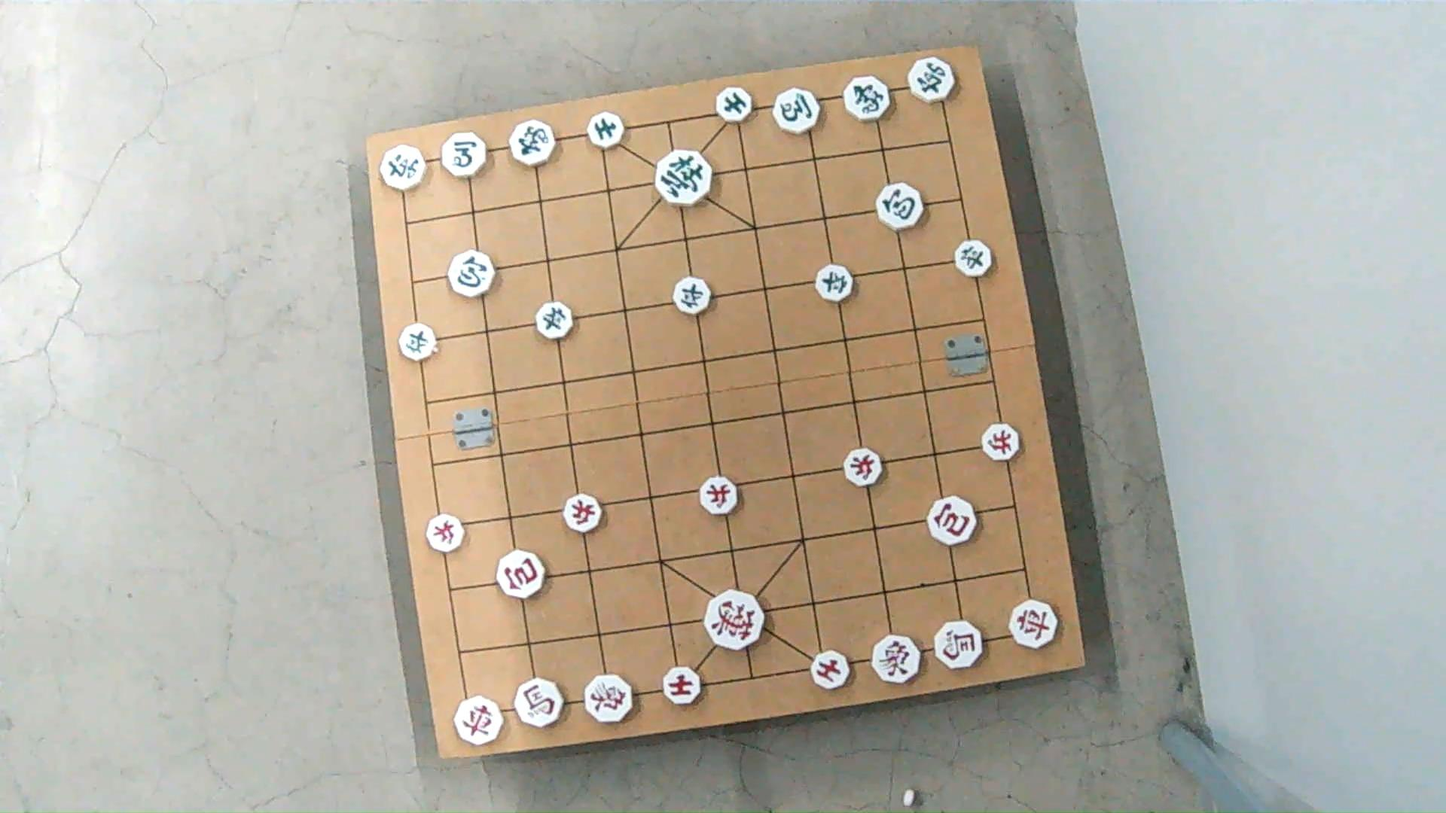cha_green: (380, 143, 426, 193), (906, 60, 955, 102)
cha_red: (453, 697, 504, 745), (1008, 600, 1059, 648)
jol_green: (812, 265, 854, 300), (536, 303, 576, 339), (673, 280, 713, 315), (953, 240, 993, 275), (398, 326, 438, 361)
jol_red: (425, 516, 468, 553), (699, 478, 740, 516), (560, 495, 602, 531), (844, 449, 885, 485), (981, 427, 1022, 462)
ma_green: (775, 87, 822, 132), (442, 132, 490, 176)
ma_red: (935, 620, 984, 669), (516, 681, 565, 728)
po_green: (877, 184, 926, 228), (449, 252, 498, 296)
po_red: (929, 498, 978, 546), (500, 553, 548, 598)
sa_green: (587, 114, 626, 148), (715, 90, 754, 123)
sa_red: (809, 648, 850, 687), (660, 668, 700, 705)
sang_green: (843, 75, 889, 123), (511, 122, 560, 165)
sang_red: (871, 635, 922, 681), (587, 674, 636, 720)
wang_green: (655, 151, 716, 205)
wang_red: (706, 592, 767, 649)
